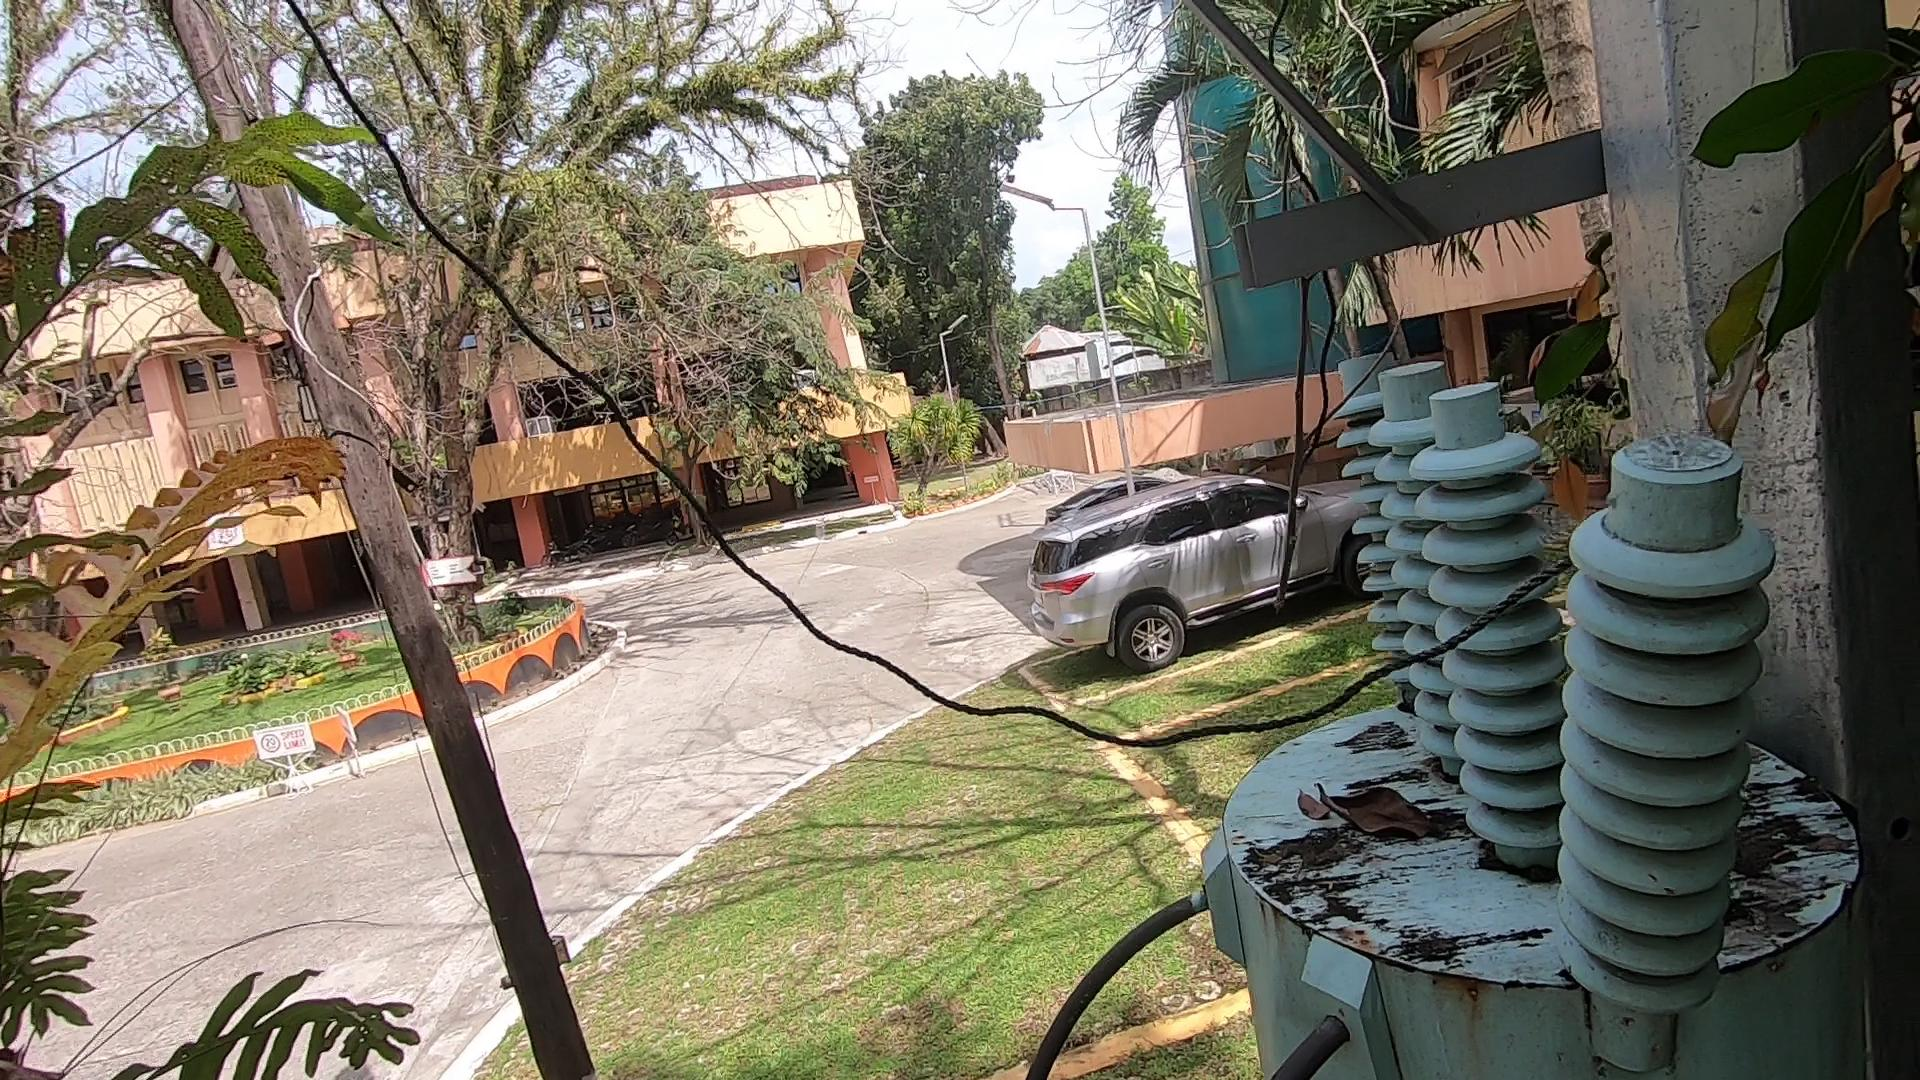branch with leaves: (1676, 94, 1909, 459), (1505, 225, 1644, 505)
leaf: (1279, 757, 1462, 851)
tree branch: (1208, 16, 1414, 632)
